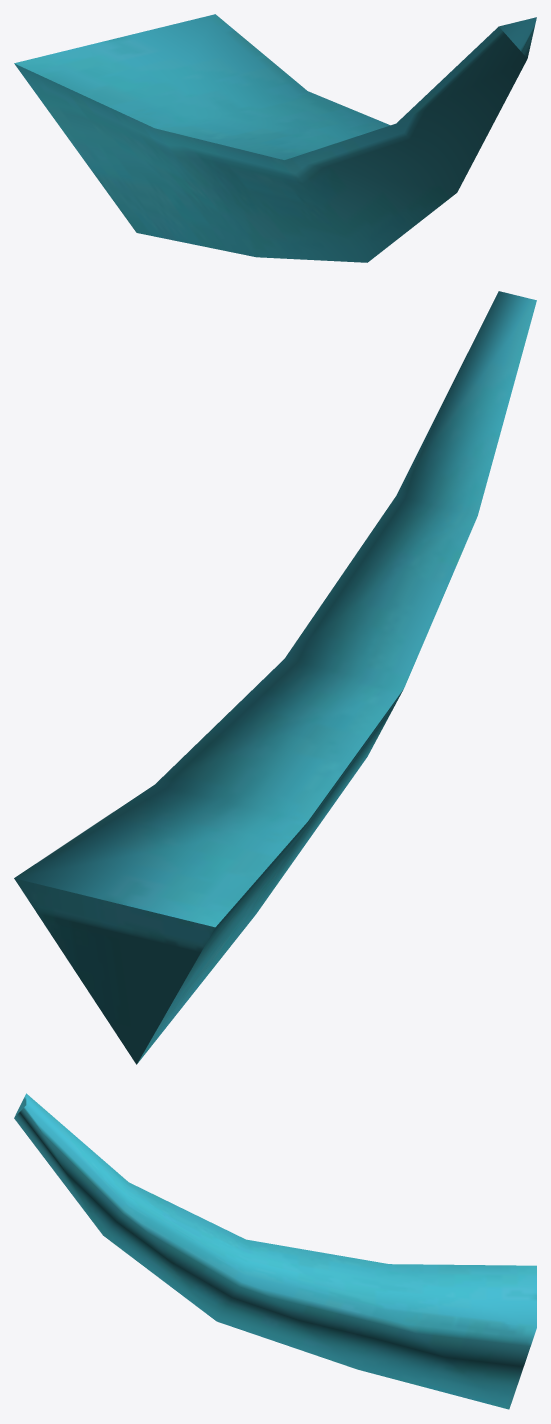
Rendered from colaGumball.obj.
3 renders of one model, top to bottom at view 1: azimuth 30°, elevation 25°; view 2: azimuth 150°, elevation 25°; view 3: azimuth 270°, elevation 25°, orthographic. The views are drawn at different scales.
Visible parts, largest first — view 1: cola; view 2: cola; view 3: cola.
Boxes of the visible parts, x1,y1,x2,y2 form: cola: [14, 14, 536, 262]; cola: [14, 291, 536, 1064]; cola: [14, 1093, 536, 1409].
Bounding box in the file's own units: 0.5307 × 1.23 × 1.88.
Materials: 1 (1 with a texture image).
